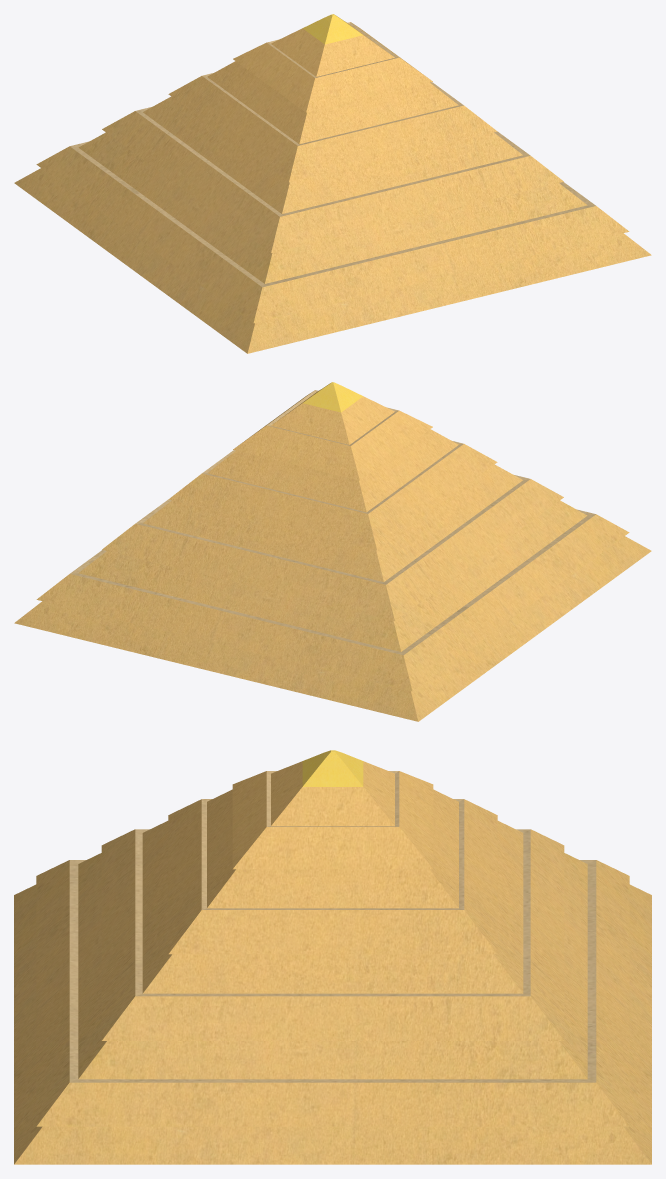
The model's file is Pyramids_1.fbx.
3 renders of one model, top to bottom at view 1: azimuth 30°, elevation 25°; view 2: azimuth 150°, elevation 25°; view 3: azimuth 270°, elevation 25°, orthographic. The views are drawn at different scales.
Visible parts, largest first — view 1: Cube; view 2: Cube; view 3: Cube.
Part boxes in pixels (x1,y1,x2,y2): Cube: (14,14,651,353); Cube: (14,382,651,721); Cube: (14,750,651,1164).
Size of the model in its own units: 100 by 48.4 by 100.
